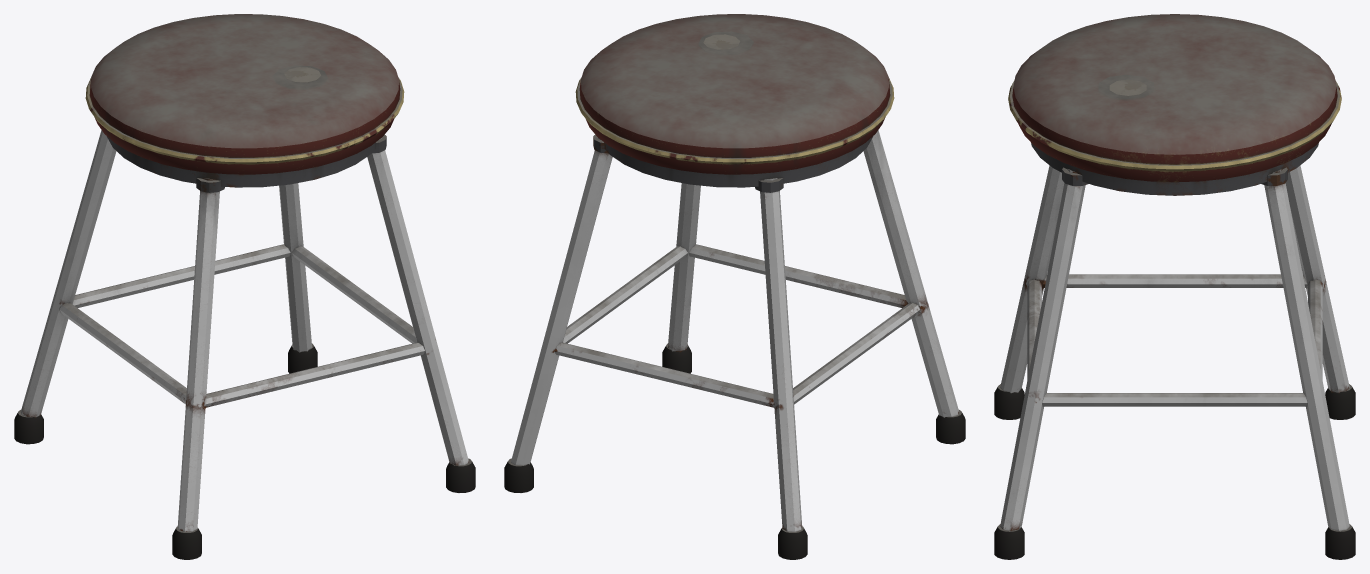
The model's file is SM_KitchenStool_Metal.fbx.
3 views of the same model, side by side, from view 1: azimuth 30°, elevation 25°; view 2: azimuth 150°, elevation 25°; view 3: azimuth 270°, elevation 25° (orthographic). The views are drawn at different scales.
Parts seen in each view (by area): view 1: SM_KitchenStool_Metal; view 2: SM_KitchenStool_Metal; view 3: SM_KitchenStool_Metal.
Part boxes in pixels (<box>): SM_KitchenStool_Metal: <box>14,14,475,559</box>; SM_KitchenStool_Metal: <box>504,14,965,559</box>; SM_KitchenStool_Metal: <box>994,14,1355,559</box>.
Bounding box in the file's own units: 0.372 × 0.4692 × 0.3712.
1 material, 1 textured.
